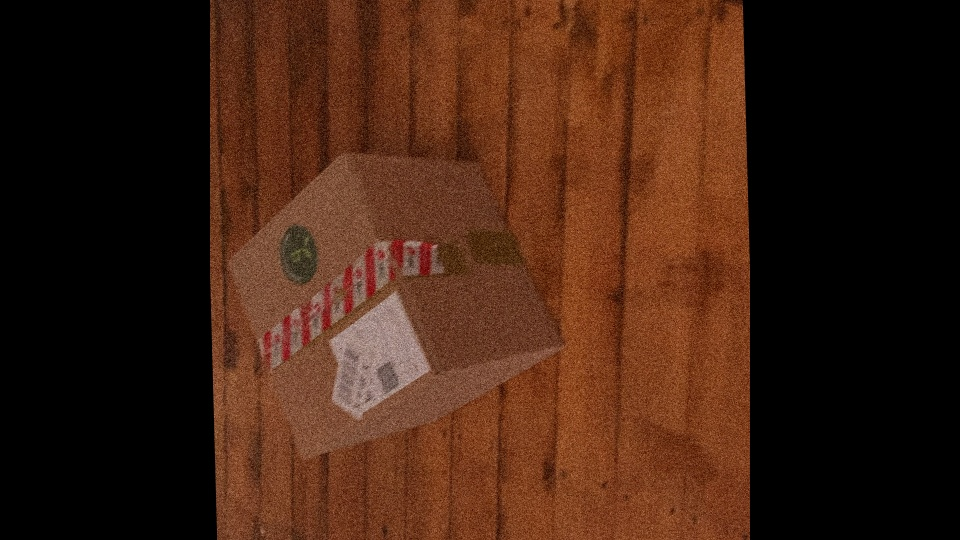good-parcel: (229, 156, 570, 461)
